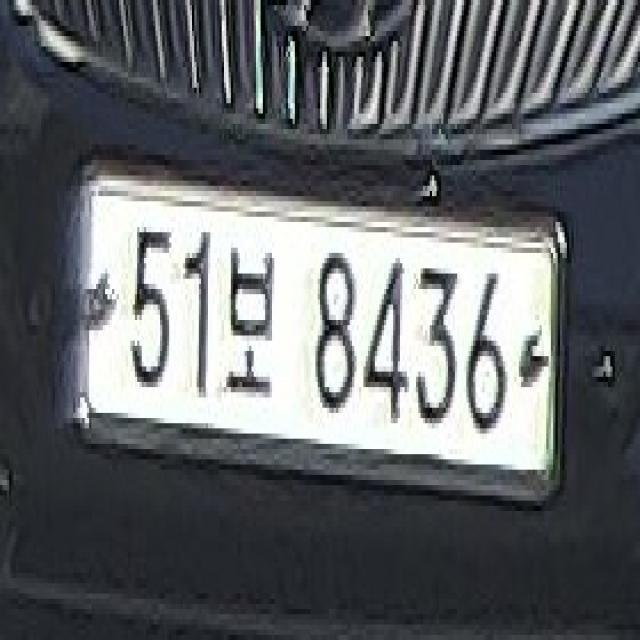1: (179, 225, 217, 399)
3: (412, 256, 458, 427)
4: (361, 246, 408, 427)
5: (128, 220, 174, 394)
6: (464, 262, 508, 440)
8: (310, 244, 356, 413)
bo: (226, 235, 278, 406)
license_plate: (66, 146, 586, 529)
